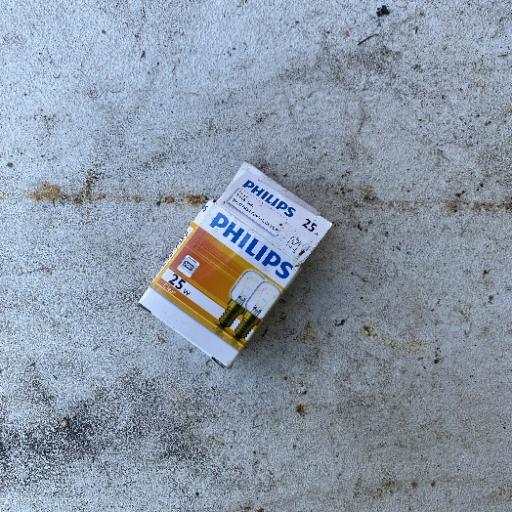Cardboard: (136, 160, 333, 370)
